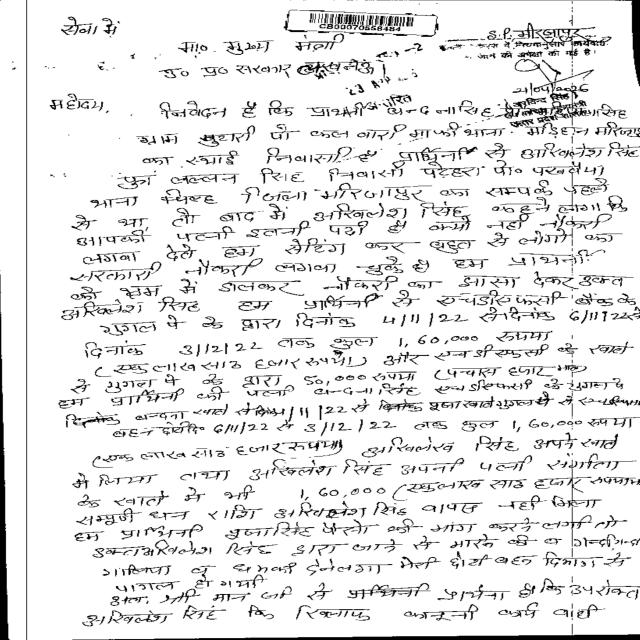antritgovtstamp: (309, 40, 441, 113)
barcode: (290, 10, 446, 34)
